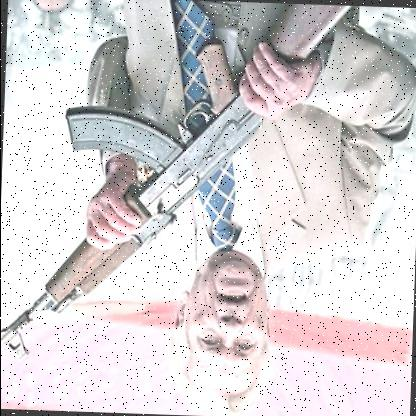rifle: (0, 0, 358, 366)
